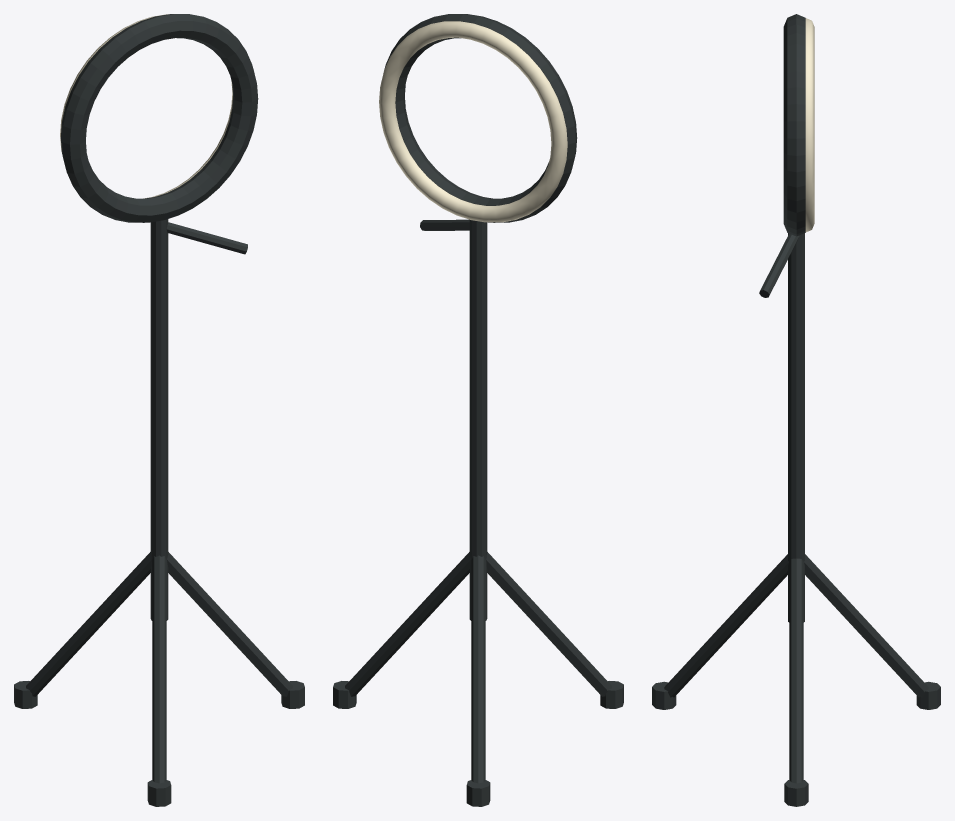
File: SM_CreatorCoupleHouse_RingLight.fbx
The picture shows the model from 3 angles, left to right: view 1: azimuth 30°, elevation 25°; view 2: azimuth 150°, elevation 25°; view 3: azimuth 270°, elevation 25°; orthographic projection.
Parts seen in each view (by area): view 1: SM_CreatorCoupleHouse_RingLight; view 2: SM_CreatorCoupleHouse_RingLight; view 3: SM_CreatorCoupleHouse_RingLight.
Part boxes in pixels (box(x1,y1,x2,y2)): SM_CreatorCoupleHouse_RingLight: box(14, 14, 304, 806); SM_CreatorCoupleHouse_RingLight: box(333, 14, 623, 806); SM_CreatorCoupleHouse_RingLight: box(652, 14, 940, 806).
Size of what is drawn, in the model's own units: 68.7 by 71.82 by 196.
